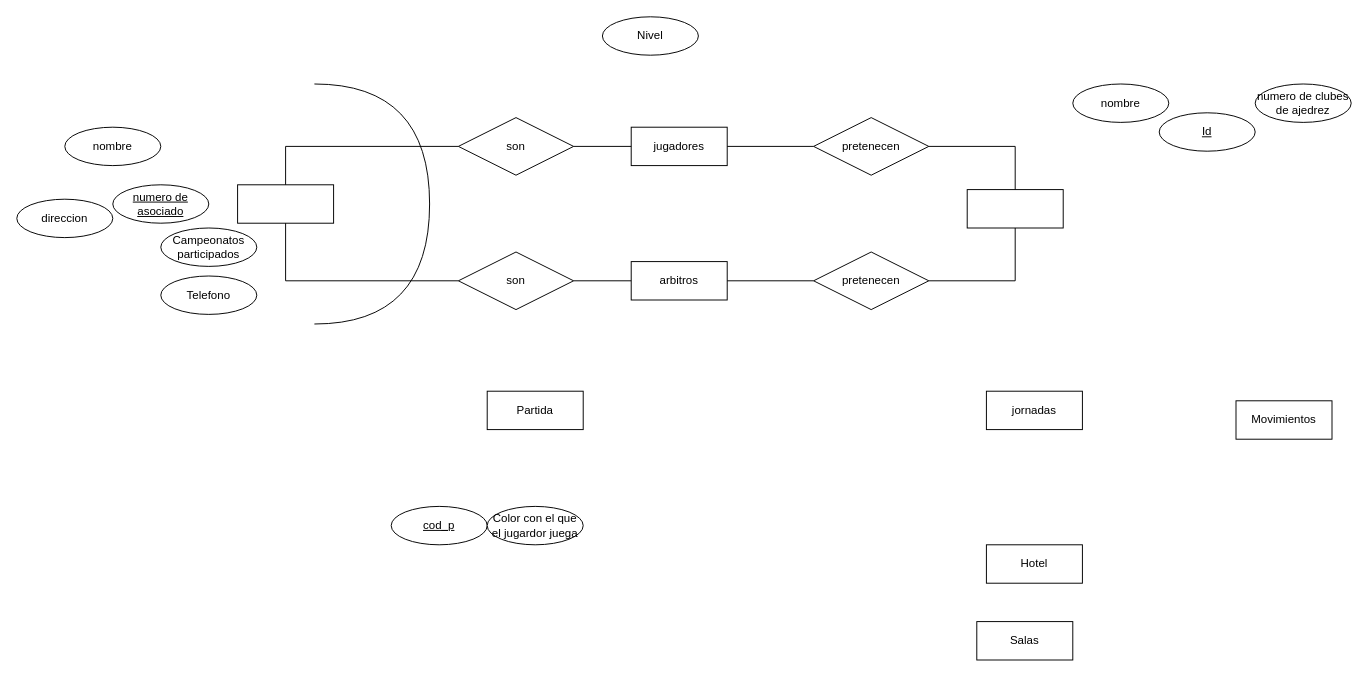
Image size: 1368x677. Some labels were removed from this diagram. The shapes that lost their labels are listed below. From the top down, each one's centre as x and y in pixels, then its label:
At point 285,203: "Participantes".
At point 1014,208: "pais".
